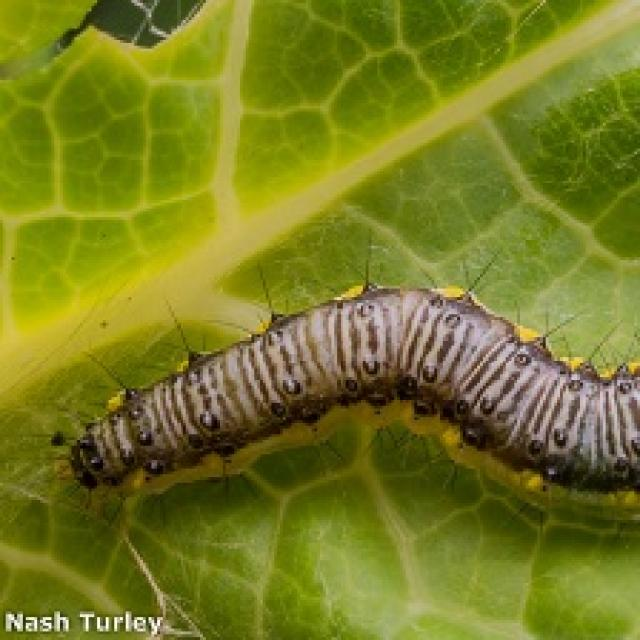Cabbage-worm: (95, 285, 640, 509)
